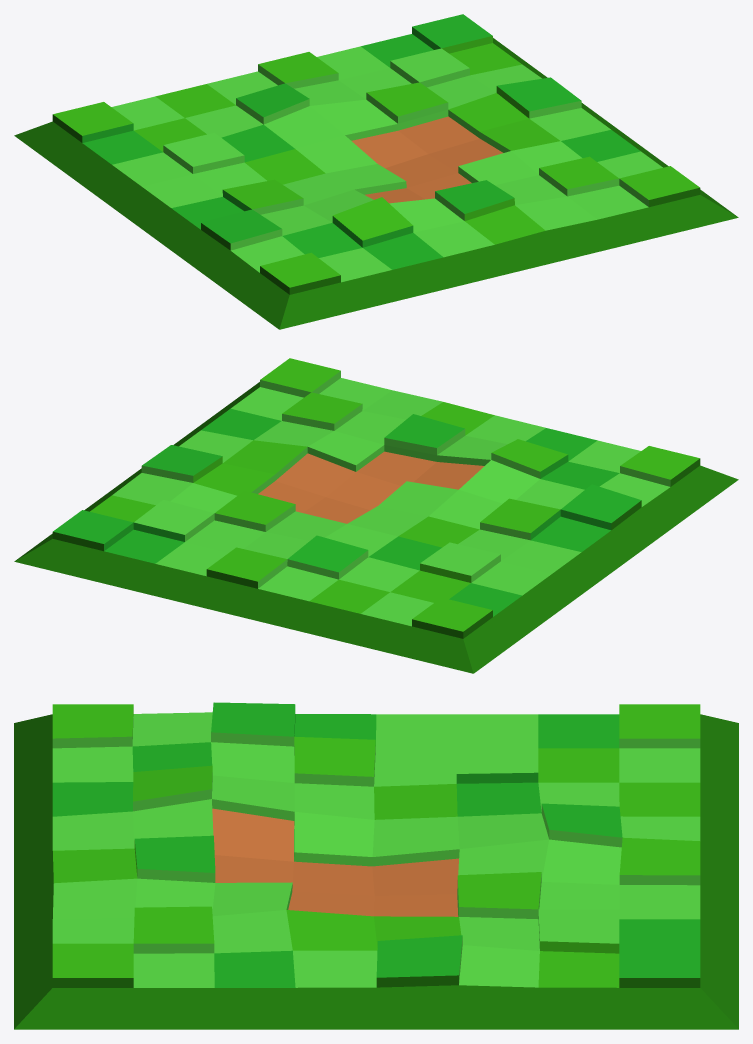
The model's file is des5.fbx.
3 renders of one model, top to bottom at view 1: azimuth 30°, elevation 25°; view 2: azimuth 150°, elevation 25°; view 3: azimuth 270°, elevation 25°, orthographic. The views are drawn at different scales.
Parts seen in each view (by area): view 1: land6; view 2: land6; view 3: land6.
Boxes of the visible parts, x1,y1,x2,y2 form: land6: (14,14,738,329); land6: (14,358,738,673); land6: (14,702,738,1029).
Bounding box in the file's own units: 101 × 7.75 × 101.
